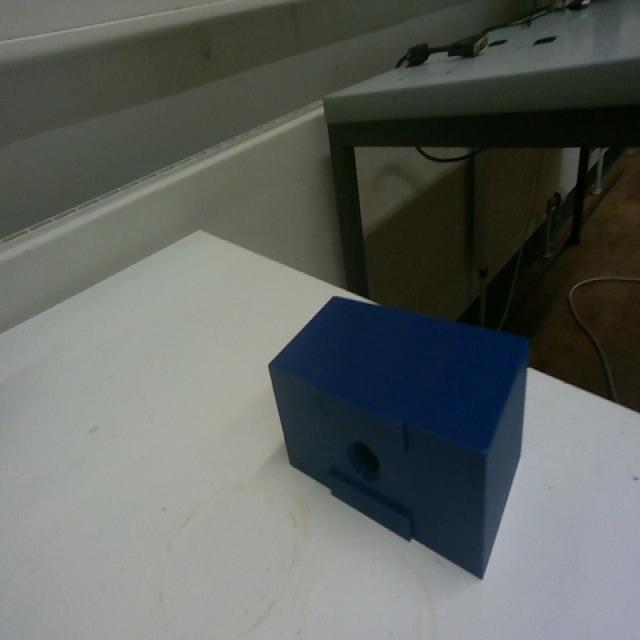Blue Cuboid: (265, 288, 532, 580)
